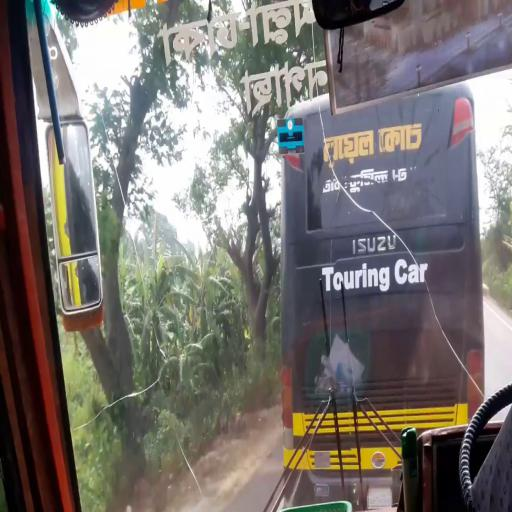bus: (281, 106, 488, 507)
